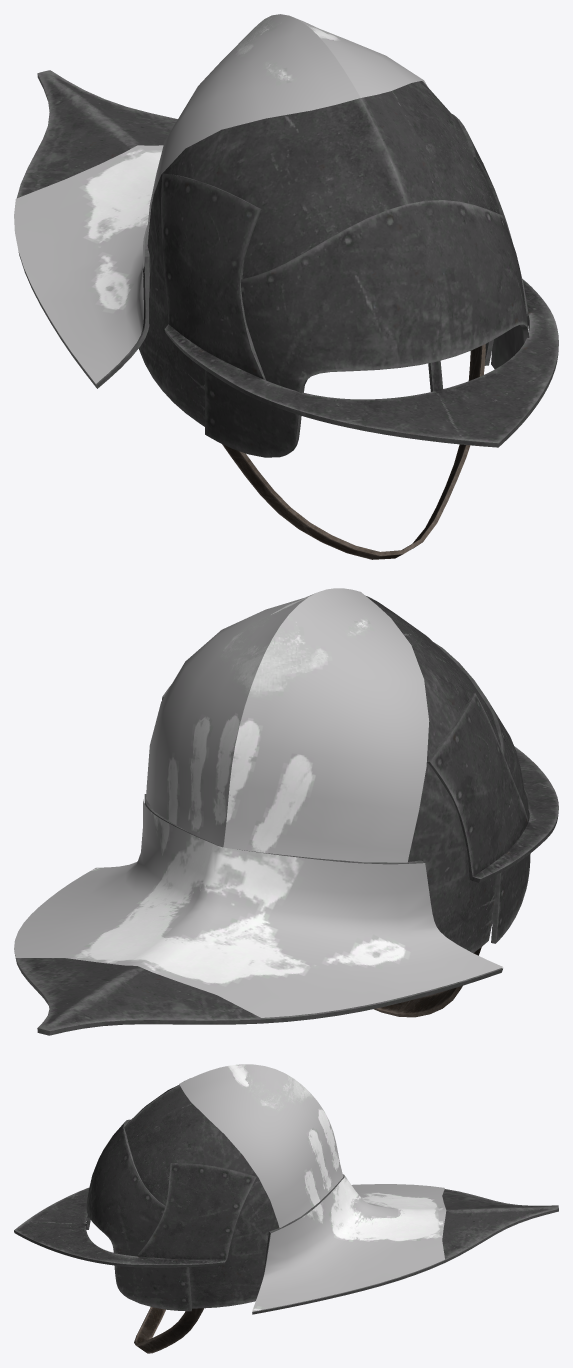
The model's file is sk_uruk_hai_helmet_sapper_a2.fbx.
3 renders of one model, top to bottom at view 1: azimuth 30°, elevation 25°; view 2: azimuth 150°, elevation 25°; view 3: azimuth 270°, elevation 25°, orthographic. The views are drawn at different scales.
Visible parts, largest first — view 1: sk_uruk_hai_helmet_sapper_a2.2, sk_uruk_hai_helmet_sapper_a2.0, sk_uruk_hai_helmet_sapper_a2.1; view 2: sk_uruk_hai_helmet_sapper_a2.0, sk_uruk_hai_helmet_sapper_a2.2, sk_uruk_hai_helmet_sapper_a2.1; view 3: sk_uruk_hai_helmet_sapper_a2.2, sk_uruk_hai_helmet_sapper_a2.0, sk_uruk_hai_helmet_sapper_a2.1.
Part boxes in pixels (bbox=[...]): sk_uruk_hai_helmet_sapper_a2.2: bbox=[17, 70, 558, 457]; sk_uruk_hai_helmet_sapper_a2.0: bbox=[14, 14, 427, 383]; sk_uruk_hai_helmet_sapper_a2.1: bbox=[222, 344, 485, 559]; sk_uruk_hai_helmet_sapper_a2.0: bbox=[14, 588, 503, 1017]; sk_uruk_hai_helmet_sapper_a2.2: bbox=[14, 596, 558, 1035]; sk_uruk_hai_helmet_sapper_a2.1: bbox=[373, 947, 481, 1017]; sk_uruk_hai_helmet_sapper_a2.2: bbox=[14, 1084, 558, 1314]; sk_uruk_hai_helmet_sapper_a2.0: bbox=[179, 1064, 446, 1311]; sk_uruk_hai_helmet_sapper_a2.1: bbox=[134, 1307, 203, 1353].
Size of the model in its own units: 0.2818 by 0.5446 by 0.3137.
3 materials, 3 textured.
